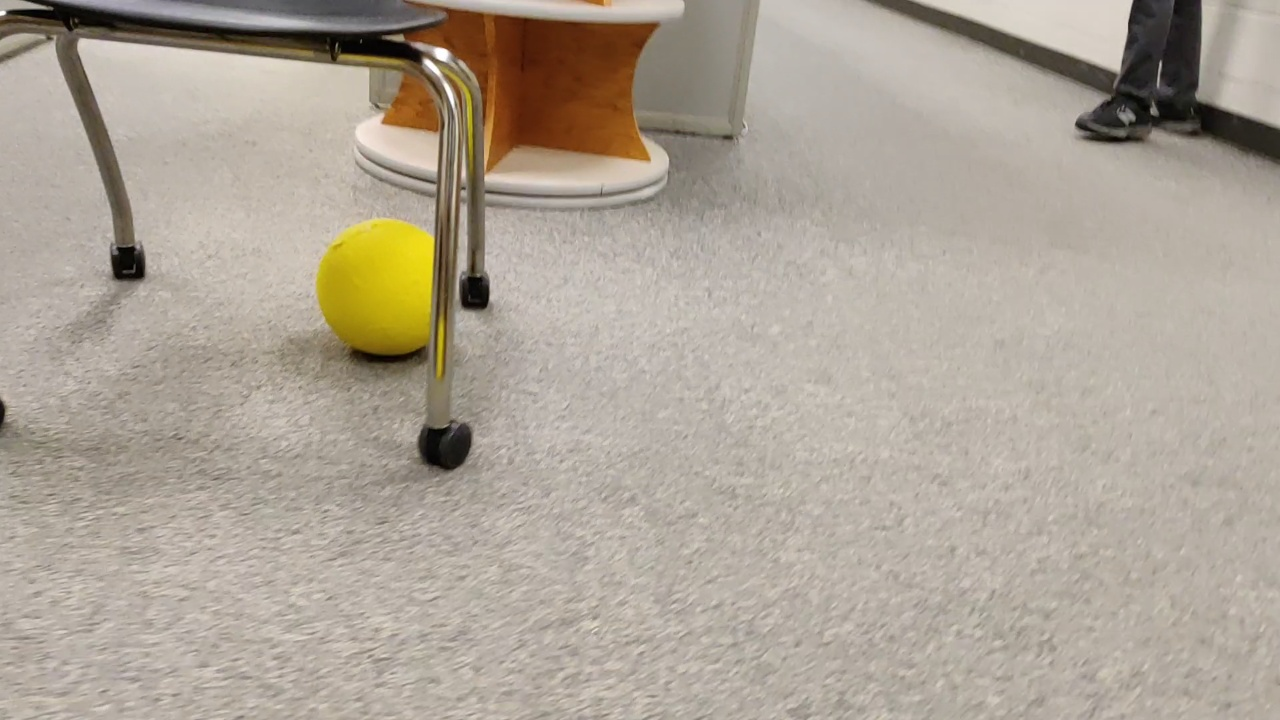Ball: (318, 224, 454, 362)
